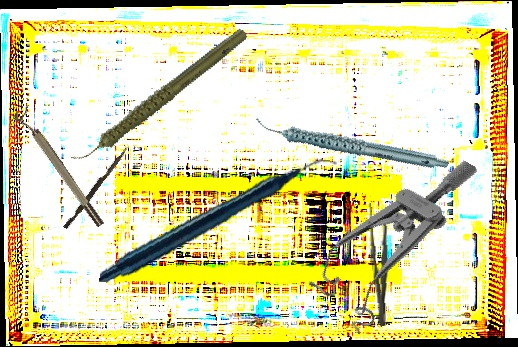Dressing Forceps: (366, 202, 394, 327)
Fixation Ring: (12, 105, 106, 232)
Handpiece: (98, 131, 338, 312), (50, 25, 267, 166), (253, 79, 450, 208)
Pusher: (63, 144, 129, 231)
Speculum: (297, 123, 480, 345)
